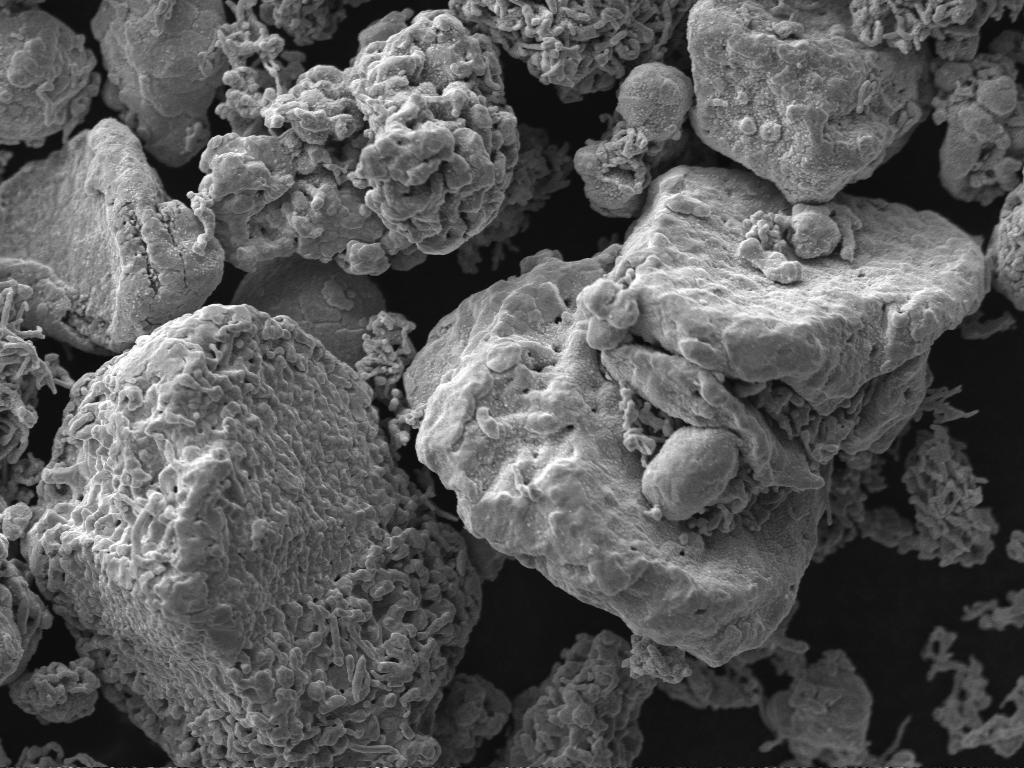Powder: (406, 166, 988, 664), (24, 304, 482, 766), (192, 4, 520, 274), (0, 118, 224, 353), (688, 0, 932, 203), (814, 388, 998, 567), (450, 1, 694, 102), (92, 0, 226, 165), (498, 630, 656, 766), (574, 62, 694, 218), (760, 650, 920, 766), (232, 254, 386, 366), (458, 125, 572, 273), (0, 280, 72, 504), (932, 30, 1024, 205), (0, 8, 100, 148), (922, 626, 1024, 757), (658, 626, 808, 709), (850, 0, 1024, 59), (0, 502, 52, 685), (434, 674, 512, 765), (10, 658, 100, 724), (986, 180, 1024, 310), (260, 1, 366, 46), (622, 634, 692, 684), (963, 588, 1024, 630), (14, 742, 104, 768), (1006, 530, 1024, 563)
